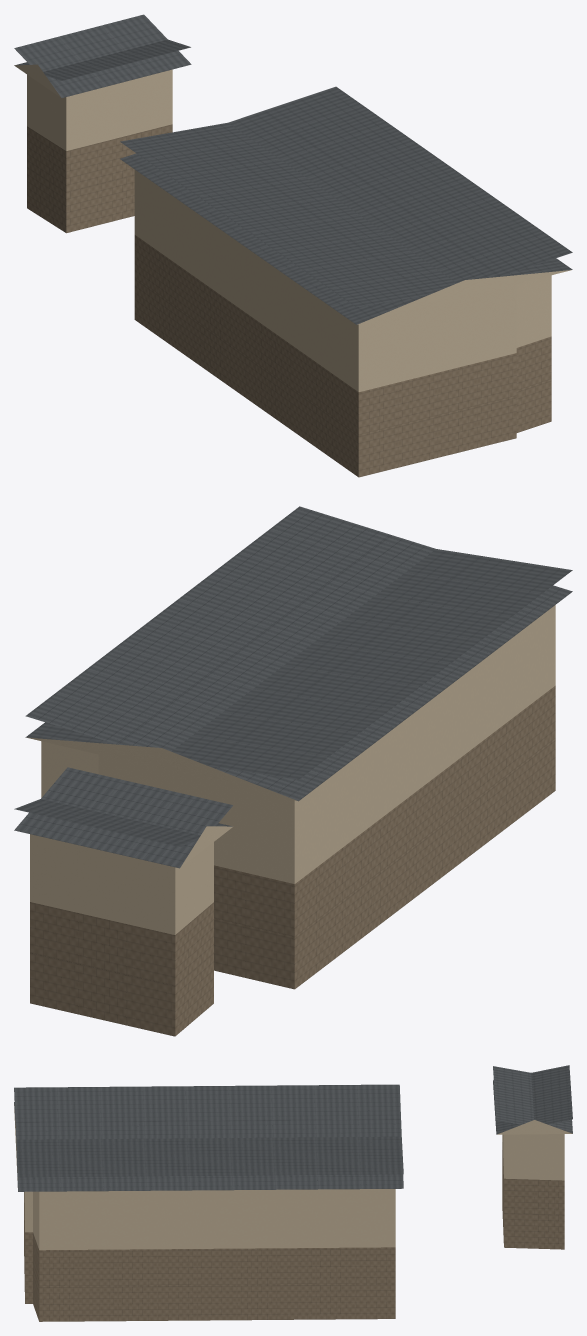
The model's file is bld_c33_44_240.gltf.
3 renders of one model, top to bottom at view 1: azimuth 30°, elevation 25°; view 2: azimuth 150°, elevation 25°; view 3: azimuth 270°, elevation 25°, orthographic. The views are drawn at different scales.
Visible parts, largest first — view 1: bld_c33_44_240; view 2: bld_c33_44_240; view 3: bld_c33_44_240.
Boxes of the visible parts, box(x1,y1,x2,y2) form: bld_c33_44_240: box(14, 14, 572, 477); bld_c33_44_240: box(14, 506, 572, 1036); bld_c33_44_240: box(14, 1065, 572, 1321).
Bounding box in the file's own units: 14.01 × 11.4 × 34.91.
4 materials, 4 textured.
